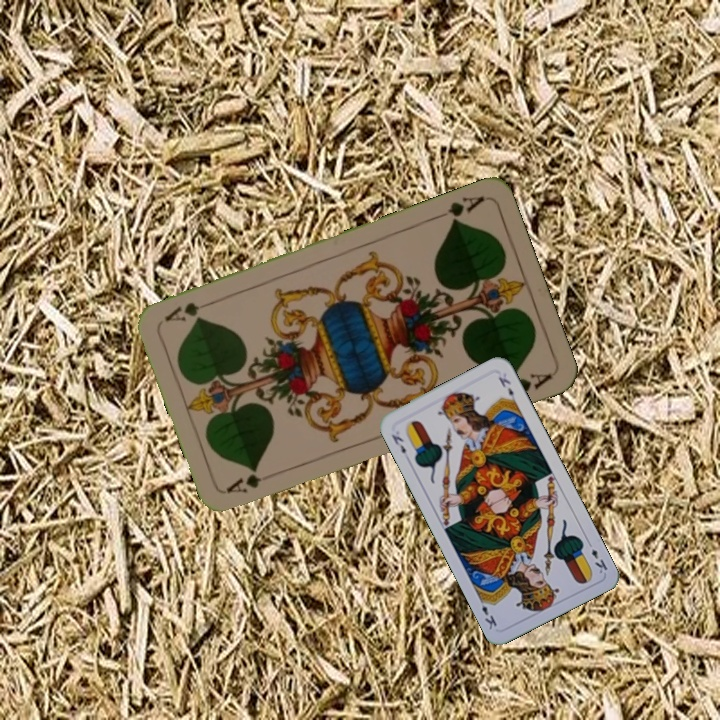EK: (583, 537, 610, 576), (387, 430, 408, 457)
GA: (430, 192, 487, 227), (222, 470, 264, 496)
